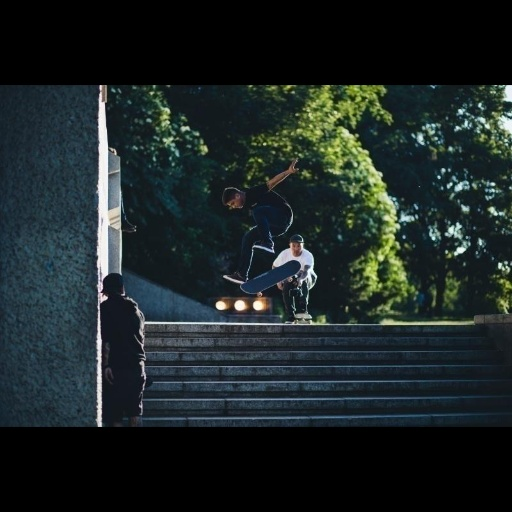Stairs: (144, 322, 512, 426)
